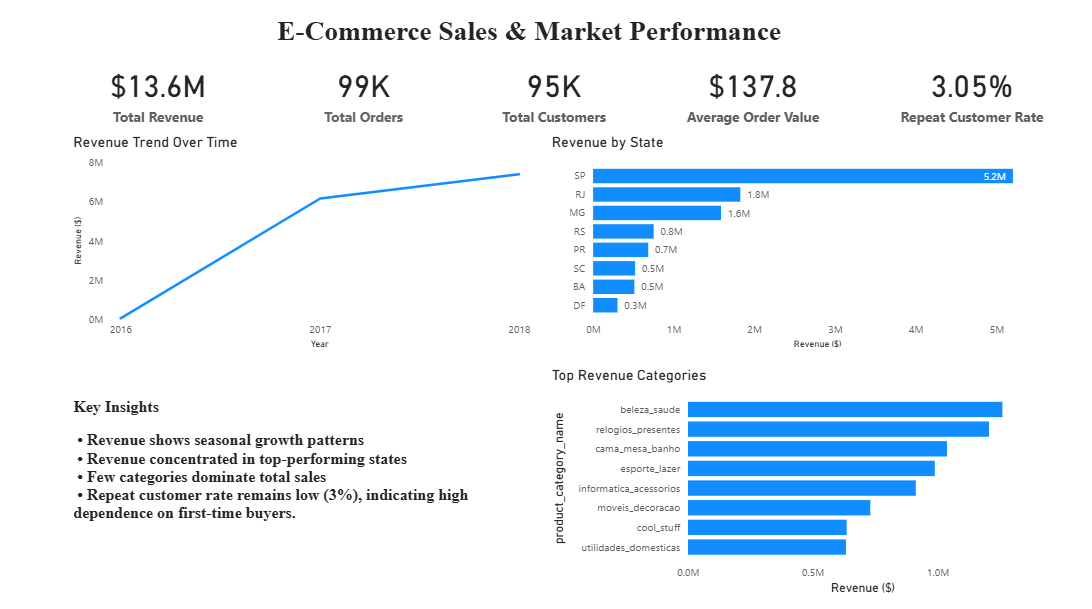

The dashboard page shown, as its layout file describes it:
{"tool":"powerbi","page":{"name":"Page 1","canvas":[1280,720],"ordinal":0},"visuals":[{"type":"card","fields":{"Values":["olist customer_summary.Total Revenue"]},"box":[96,64,176,96],"z":0},{"type":"card","fields":{"Values":["olist customer_summary.Total Orders"]},"box":[336,64,176,96],"z":1000},{"type":"card","fields":{"Values":["olist customer_summary.Total Customers"]},"box":[560,64,176,96],"z":2000},{"type":"card","fields":{"Values":["olist customer_summary.Average Order Value"]},"box":[784,64,192,96],"z":3000},{"type":"lineChart","title":"Revenue Trend Over Time","fields":{"Category":["olist monthly_sales.month.Variation.Date Hierarchy.Year","olist monthly_sales.month.Variation.Date Hierarchy.Quarter","olist monthly_sales.month.Variation.Date Hierarchy.Month","olist monthly_sales.month.Variation.Date Hierarchy.Day"],"Y":["olist customer_summary.Total Revenue"]},"box":[80,160,544,256],"z":4000},{"type":"barChart","title":"Revenue by State","fields":{"Y":["Sum(olist revenue_by_state.total_revenue)"],"Category":["olist revenue_by_state.customer_state"]},"box":[640,160,592,256],"z":5000},{"type":"barChart","title":"Top Revenue Categories","fields":{"Category":["olist revenue_by_category.product_category_name"],"Y":["Sum(olist revenue_by_category.total_revenue)"]},"box":[640,432,592,272],"z":6000},{"type":"textbox","box":[80,464,544,176],"z":7000},{"type":"card","fields":{"Values":["olist customer_summary.Repeat Customer Rate"]},"box":[1040,64,192,96],"z":8000},{"type":"textbox","box":[320,16,640,64],"z":9000}]}

Visuals, with their boxes in screenshot pixels (x1, y1, x2, y2), scaled from the page's 1280x720 canvas onto the 1092x609 screenshot:
card - olist customer_summary.Total Revenue: 82:54:232:135
card - olist customer_summary.Total Orders: 287:54:437:135
card - olist customer_summary.Total Customers: 478:54:628:135
card - olist customer_summary.Average Order Value: 669:54:833:135
"Revenue Trend Over Time" lineChart: 68:135:532:352
"Revenue by State" barChart: 546:135:1051:352
"Top Revenue Categories" barChart: 546:365:1051:595
textbox: 68:392:532:541
card - olist customer_summary.Repeat Customer Rate: 887:54:1051:135
textbox: 273:14:819:68
